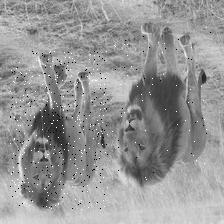Lion: (113, 19, 213, 188), (11, 51, 109, 211)
